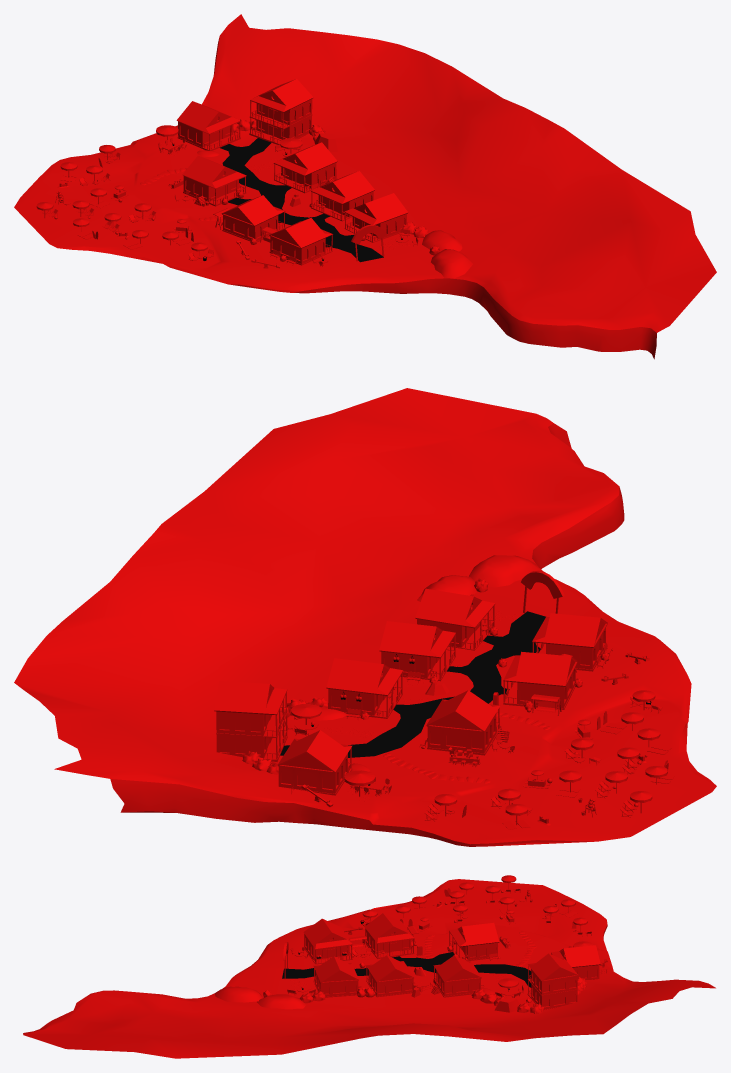
File: Individual_BowlCutBeach_02.glb
3 renders of one model, top to bottom at view 1: azimuth 30°, elevation 25°; view 2: azimuth 150°, elevation 25°; view 3: azimuth 270°, elevation 25°, orthographic. The views are drawn at different scales.
Parts seen in each view (by area): view 1: pasted__pasted__Berg, pasted__Building_Mansion2Story, pasted__Building_Mansion1Story8, pasted__Building_Mansion1Story10, pasted__Building_Mansion1Story9, pasted__Building_Mansion1Story5, pasted__Building_Mansion1Story11, pasted__Building_Mansion1Story7, pasted__Building_Mansion1Story12, pasted__SnowPatch3, pasted__SnowPatch2; view 2: pasted__pasted__Berg, pasted__Building_Mansion2Story, pasted__Building_Mansion1Story10, pasted__Building_Mansion1Story9, pasted__Building_Mansion1Story8, pasted__Building_Mansion1Story11, pasted__Building_Mansion1Story7, pasted__Building_Mansion1Story12, pasted__Building_Mansion1Story5, pasted__SnowPatch3, pasted__SnowPatch2; view 3: pasted__pasted__Berg, pasted__Building_Mansion2Story, pasted__Building_Mansion1Story7, pasted__Building_Mansion1Story5, pasted__Building_Mansion1Story9, pasted__Building_Mansion1Story11, pasted__Building_Mansion1Story10, pasted__Building_Mansion1Story12, pasted__Building_Mansion1Story8, pasted__SnowPatch3, pasted__SnowPatch2.
Boxes of the visible parts, x1,y1,x2,y2 form: pasted__pasted__Berg: (14,14,716,359); pasted__Building_Mansion2Story: (249,79,313,144); pasted__Building_Mansion1Story8: (176,101,240,150); pasted__Building_Mansion1Story10: (273,142,337,193); pasted__Building_Mansion1Story9: (182,155,246,206); pasted__Building_Mansion1Story5: (269,218,332,265); pasted__Building_Mansion1Story11: (311,171,374,221); pasted__Building_Mansion1Story7: (221,195,285,242); pasted__Building_Mansion1Story12: (344,193,408,242); pasted__SnowPatch3: (431,249,472,278); pasted__SnowPatch2: (422,230,462,251); pasted__pasted__Berg: (14,388,716,846); pasted__Building_Mansion2Story: (214,681,287,761); pasted__Building_Mansion1Story10: (326,658,403,718); pasted__Building_Mansion1Story9: (426,690,500,755); pasted__Building_Mansion1Story8: (277,730,352,795); pasted__Building_Mansion1Story11: (379,621,455,681); pasted__Building_Mansion1Story7: (503,651,577,709); pasted__Building_Mansion1Story12: (415,588,495,650); pasted__Building_Mansion1Story5: (532,613,607,671); pasted__SnowPatch3: (469,555,539,587); pasted__SnowPatch2: (417,575,476,601); pasted__pasted__Berg: (23,879,715,1058); pasted__Building_Mansion2Story: (527,953,578,1009); pasted__Building_Mansion1Story7: (364,913,414,958); pasted__Building_Mansion1Story5: (303,918,352,964); pasted__Building_Mansion1Story9: (449,922,499,961); pasted__Building_Mansion1Story11: (366,955,414,997); pasted__Building_Mansion1Story10: (433,955,481,997); pasted__Building_Mansion1Story12: (313,956,358,997); pasted__Building_Mansion1Story8: (551,945,600,979); pasted__SnowPatch3: (214,986,262,1002); pasted__SnowPatch2: (257,994,305,1009).
Size of the model in its own units: 86.53 by 11.68 by 123.
